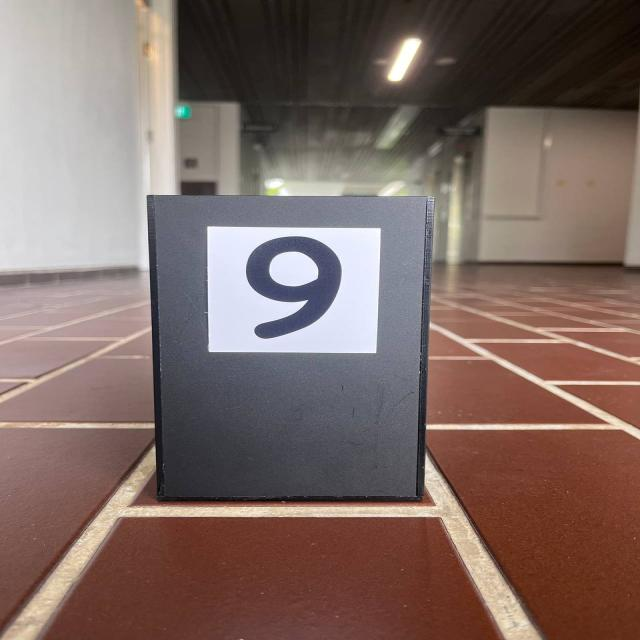nine_id19: (205, 225, 379, 354)
